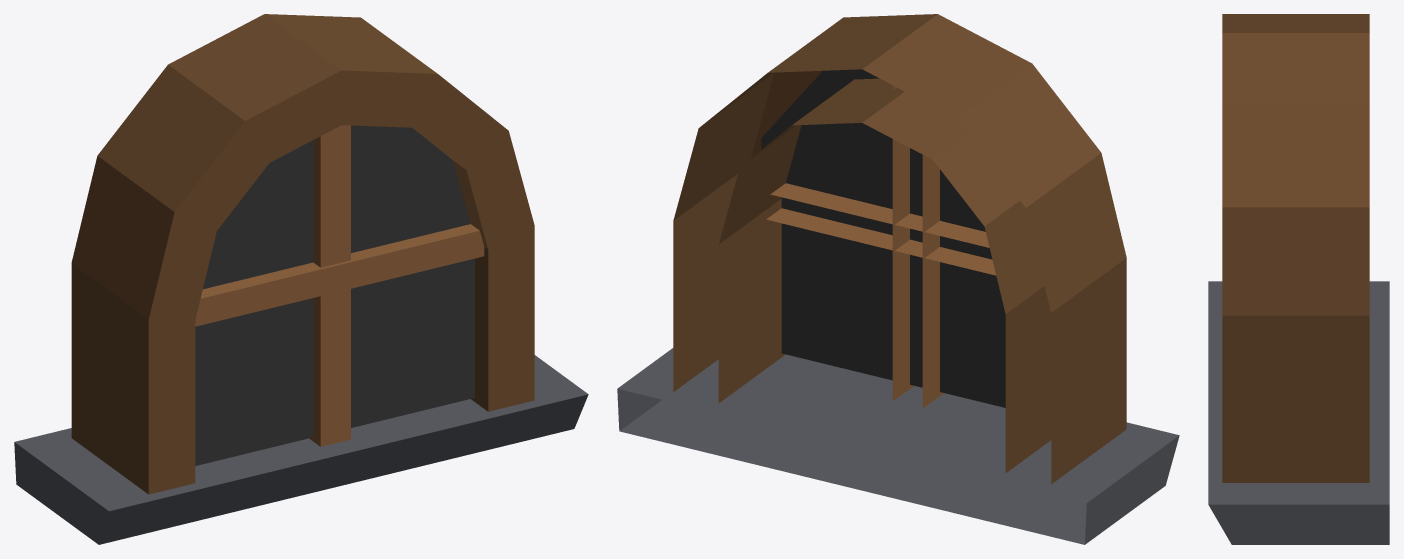
The model's file is Window_2.glb.
3 renders of one model, left to right at view 1: azimuth 30°, elevation 25°; view 2: azimuth 150°, elevation 25°; view 3: azimuth 270°, elevation 25°, orthographic. The views are drawn at different scales.
Parts seen in each view (by area): view 1: Window_2; view 2: Window_2; view 3: Window_2.
Part boxes in pixels (bbox=[...]): Window_2: bbox=[14, 14, 588, 544]; Window_2: bbox=[617, 14, 1179, 544]; Window_2: bbox=[1208, 14, 1389, 544].
Bounding box in the file's own units: 0.447 × 0.3742 × 0.1532.
